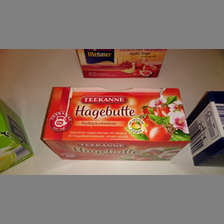tea: (40, 86, 191, 161), (75, 50, 167, 79)
